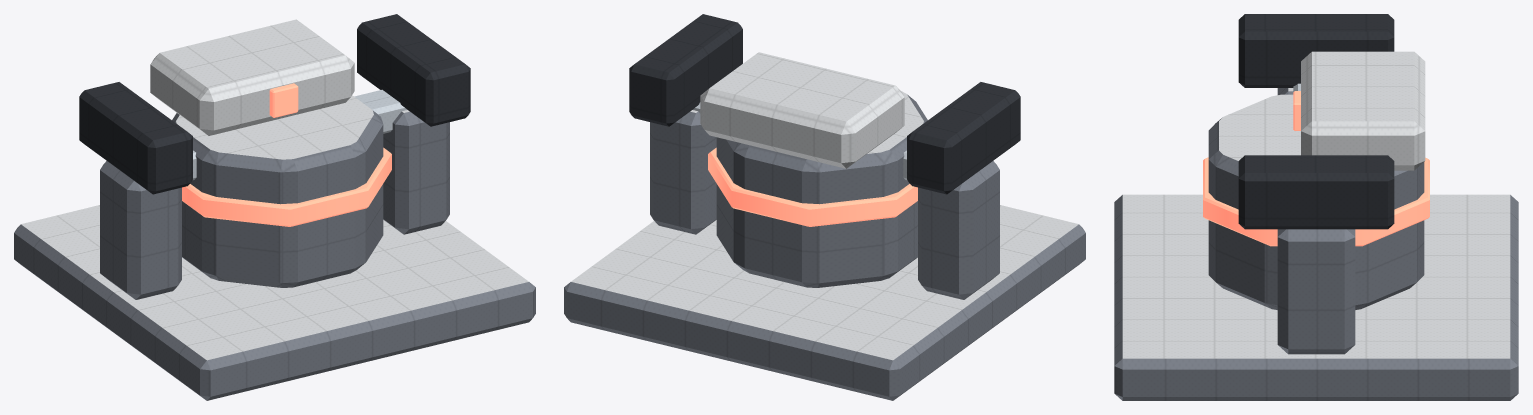
File: R4X_OffensiveTurretDeployer_LOD1.glb
The picture shows the model from 3 angles, left to right: view 1: azimuth 30°, elevation 25°; view 2: azimuth 150°, elevation 25°; view 3: azimuth 270°, elevation 25°; orthographic projection. The views are drawn at different scales.
Visible parts, largest first — view 1: R4X_OffensiveTurretDeployer_LOD1; view 2: R4X_OffensiveTurretDeployer_LOD1; view 3: R4X_OffensiveTurretDeployer_LOD1.
Part boxes in pixels (<box>): R4X_OffensiveTurretDeployer_LOD1: <box>14,14,535,400</box>; R4X_OffensiveTurretDeployer_LOD1: <box>564,14,1085,400</box>; R4X_OffensiveTurretDeployer_LOD1: <box>1114,14,1518,400</box>.
Bounding box in the file's own units: 0.52 × 0.33 × 0.52.
Materials: 5 (4 with a texture image).
